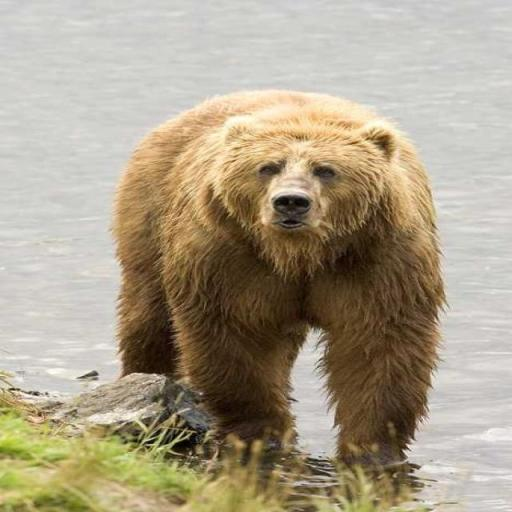Bear: (108, 88, 448, 471)
